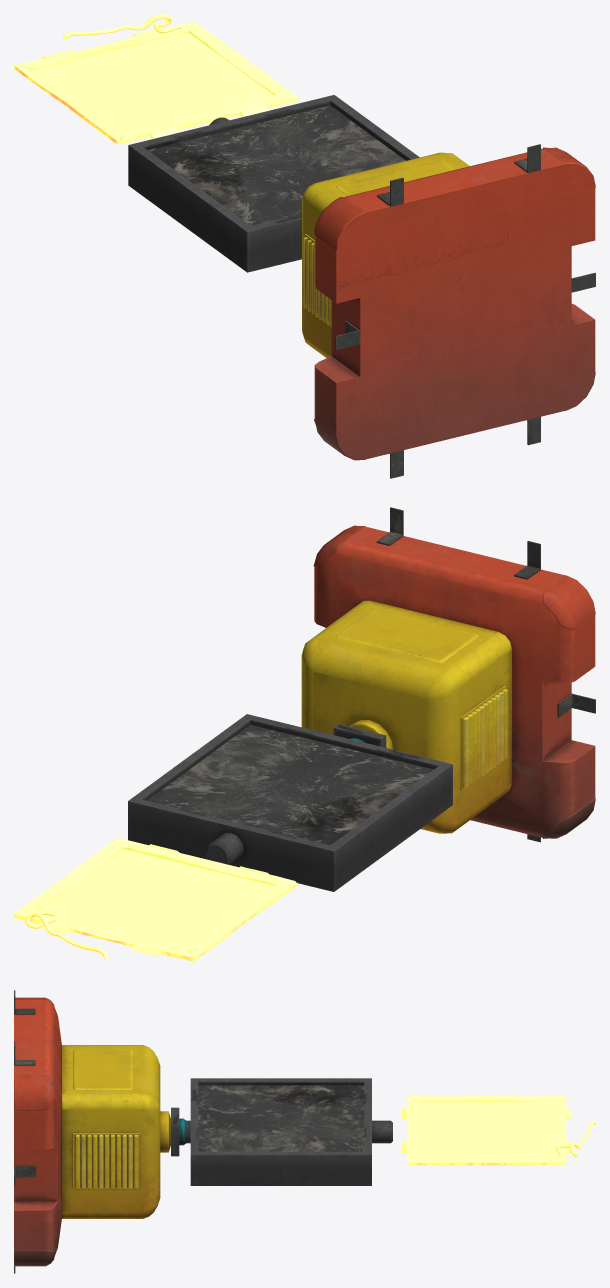
File: JumpPadPKG.fbx
3 views of the same model, one above another, from view 1: azimuth 30°, elevation 25°; view 2: azimuth 150°, elevation 25°; view 3: azimuth 270°, elevation 25° (orthographic). The views are drawn at different scales.
Parts seen in each view (by area): view 1: SM_JumpPadBase.mo, SM_JumpPadBase_Pad.mo, SM_Jump_Pad.mo; view 2: SM_JumpPadBase.mo, SM_JumpPadBase_Pad.mo, SM_Jump_Pad.mo; view 3: SM_JumpPadBase.mo, SM_JumpPadBase_Pad.mo, SM_Jump_Pad.mo.
Boxes of the visible parts, bbox=[...] form: SM_JumpPadBase.mo: bbox=[302, 144, 595, 478]; SM_JumpPadBase_Pad.mo: bbox=[128, 95, 419, 272]; SM_Jump_Pad.mo: bbox=[14, 14, 298, 144]; SM_JumpPadBase.mo: bbox=[301, 507, 595, 842]; SM_JumpPadBase_Pad.mo: bbox=[128, 714, 452, 891]; SM_Jump_Pad.mo: bbox=[14, 837, 297, 961]; SM_JumpPadBase.mo: bbox=[14, 990, 160, 1273]; SM_JumpPadBase_Pad.mo: bbox=[160, 1078, 392, 1185]; SM_Jump_Pad.mo: bbox=[402, 1095, 595, 1165].
Bounding box in the file's own units: 234 × 255 × 592.
